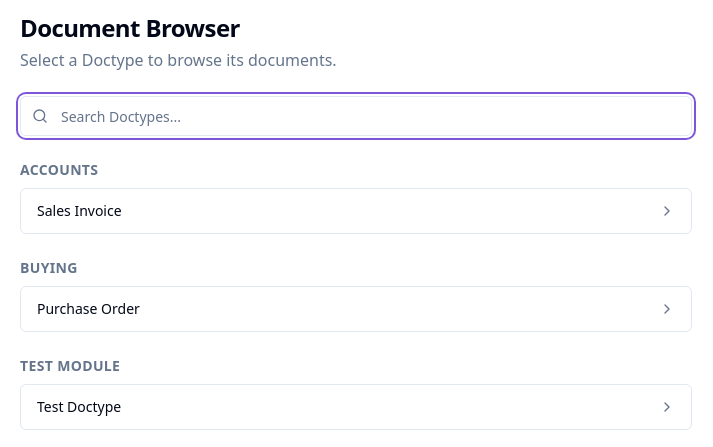
Scenario: DoctypeSelector › filters doctypes by search term
expect the text "Test Doctype" is shown: met, box [37, 397, 121, 417]
Step 1. Type "Sales" into the field with placeholder "Search Doctypes..." → [356, 116], box [20, 96, 692, 136]
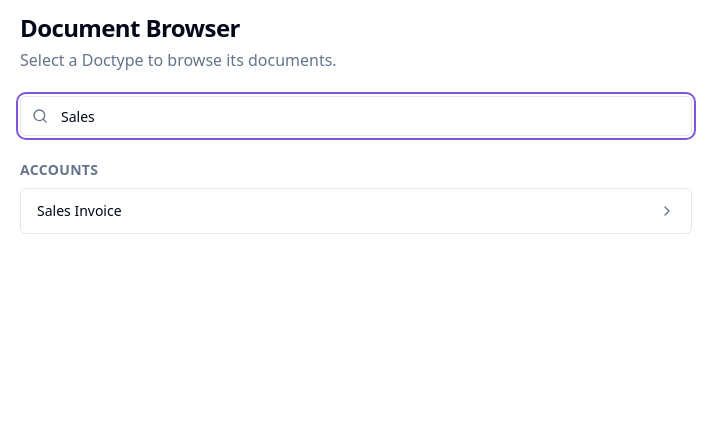
expect the text "Sales Invoice" is shown: met, box [37, 201, 122, 221]
expect the button "Test Doctype" is gone: met
